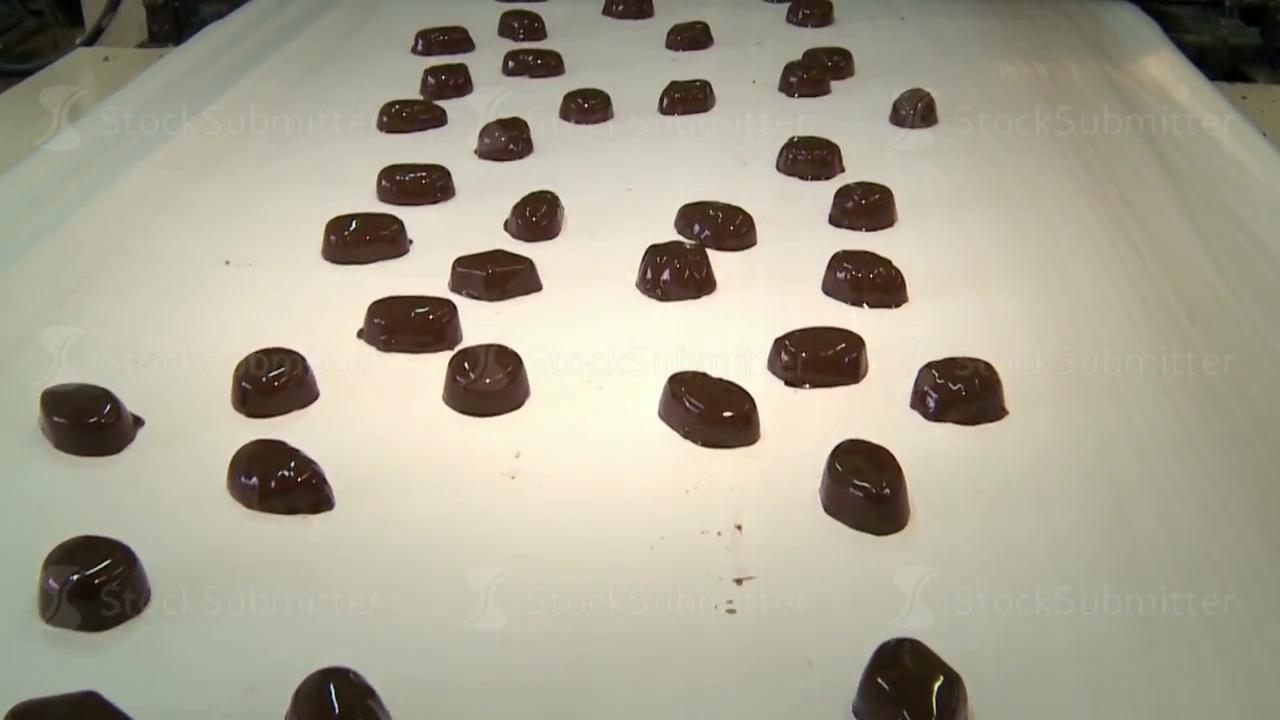chocolate: (37, 534, 151, 632), (851, 636, 969, 719), (819, 437, 910, 535), (226, 438, 335, 515), (657, 369, 760, 449), (38, 381, 144, 457), (910, 356, 1008, 426), (442, 343, 530, 416), (767, 325, 868, 388), (231, 346, 319, 418), (357, 294, 462, 353), (284, 665, 392, 719), (822, 249, 908, 309), (448, 248, 542, 301), (636, 240, 716, 301), (321, 212, 410, 264), (674, 200, 757, 251), (3, 689, 133, 719), (828, 181, 897, 231), (376, 162, 455, 205), (504, 189, 564, 241), (776, 135, 844, 180), (475, 116, 533, 161), (376, 98, 447, 133), (658, 78, 715, 116), (420, 62, 473, 100), (889, 87, 938, 128), (559, 87, 613, 124), (411, 25, 474, 55), (502, 48, 565, 78), (498, 9, 547, 42), (665, 20, 713, 51), (785, 0, 833, 28), (602, 0, 654, 20)
